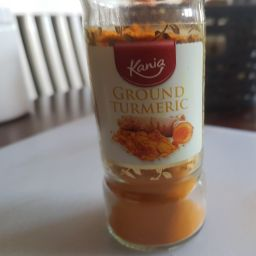Turmeric dried: (87, 23, 207, 212), (104, 157, 207, 241)
